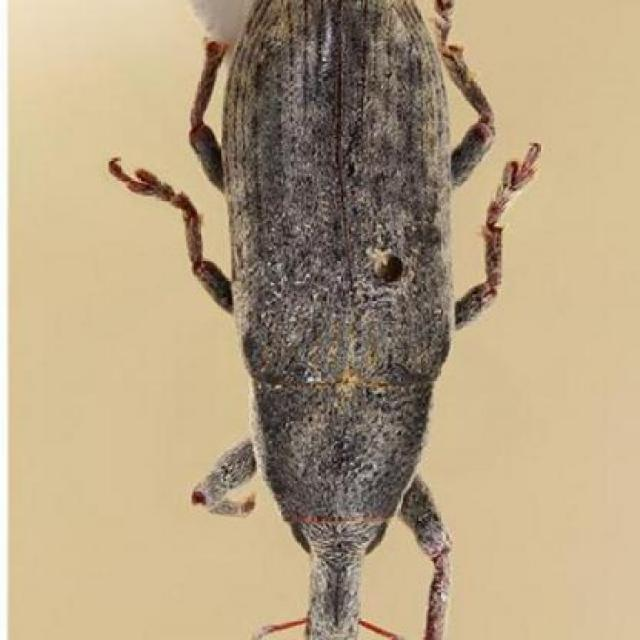rice-bug: (187, 0, 498, 640)
